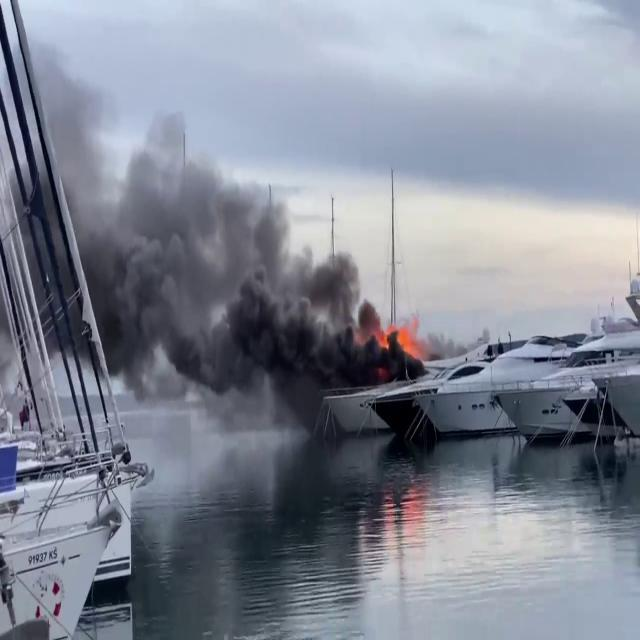Smoke: (90, 107, 382, 424)
